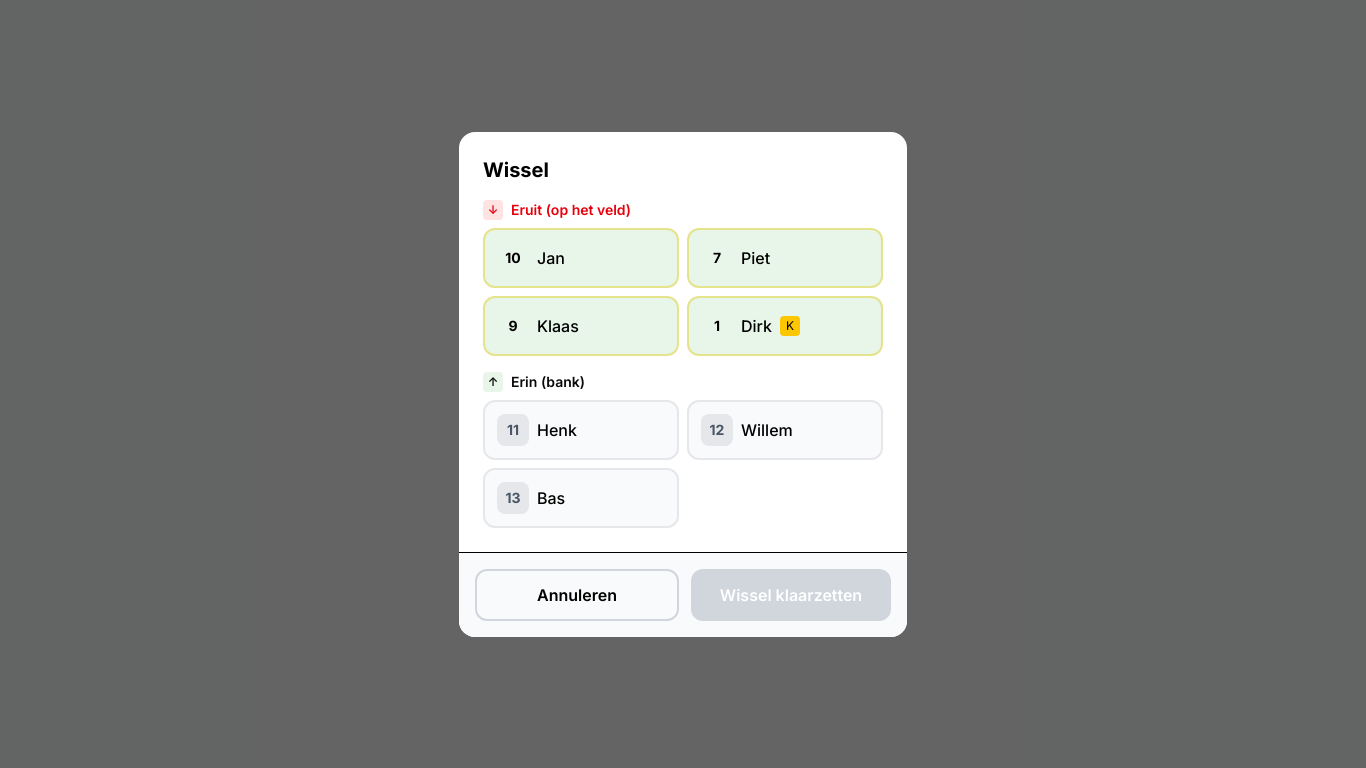
Test: SubstitutionPanel › Visual Summary › shows "Eruit?" placeholder when only player out selected
Click the text "Jan" at (551,258), box [537, 246, 565, 270]
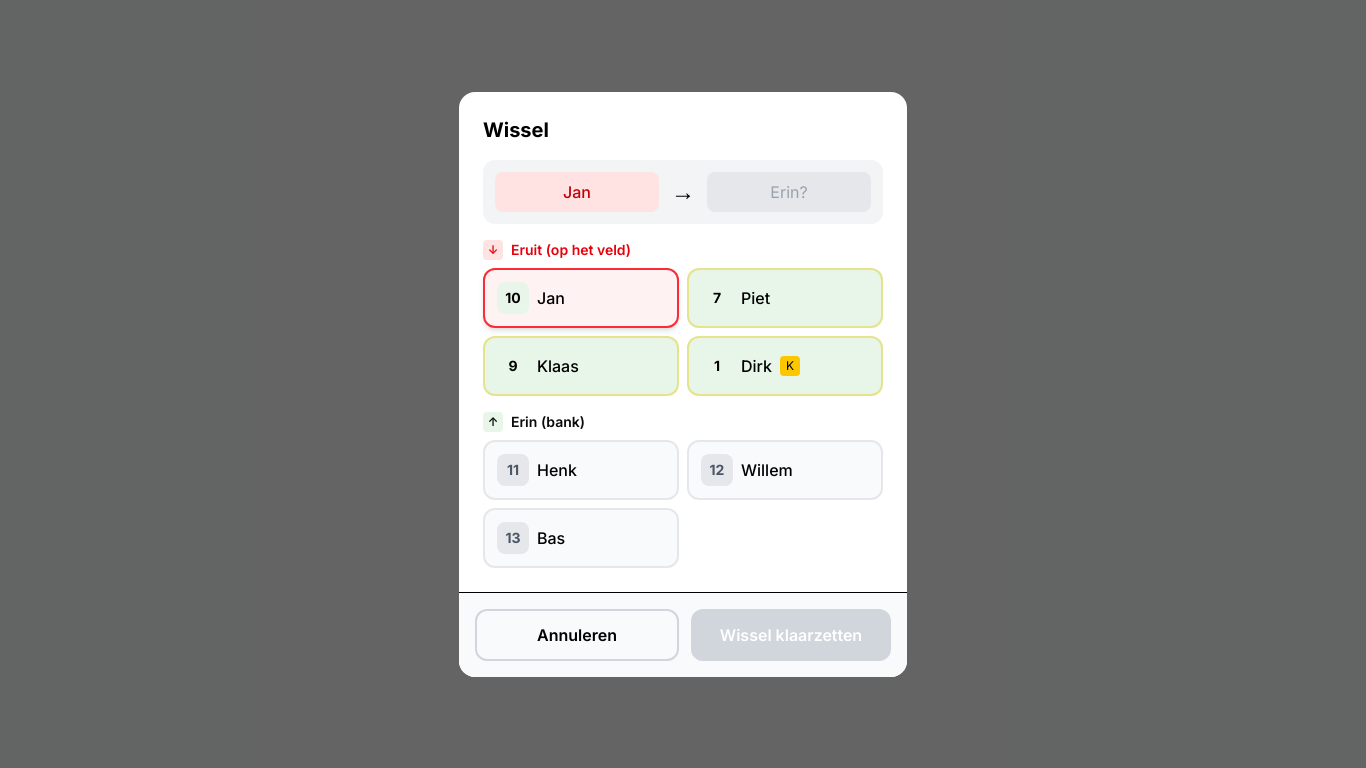
Result: the text "Erin?" is shown at [770, 182, 808, 202]
